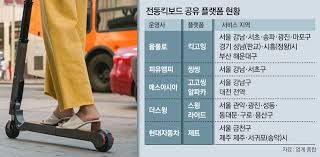kick_wheel: (93, 128, 112, 151), (5, 120, 19, 137)
